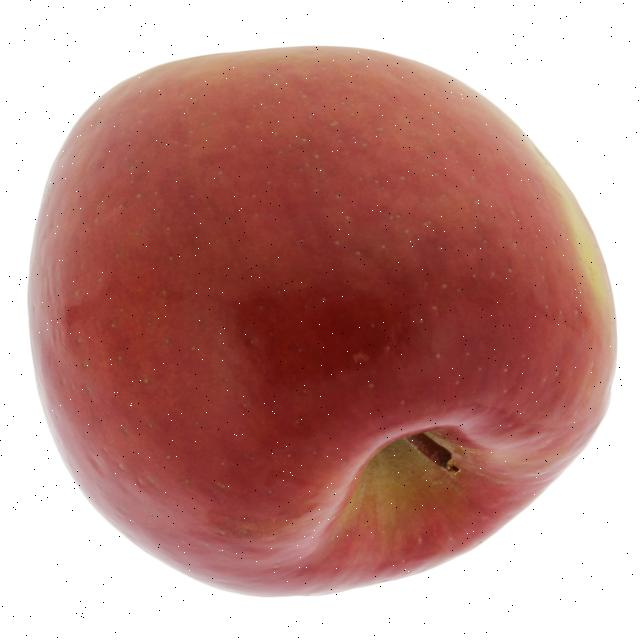Apel: (26, 45, 618, 599)
